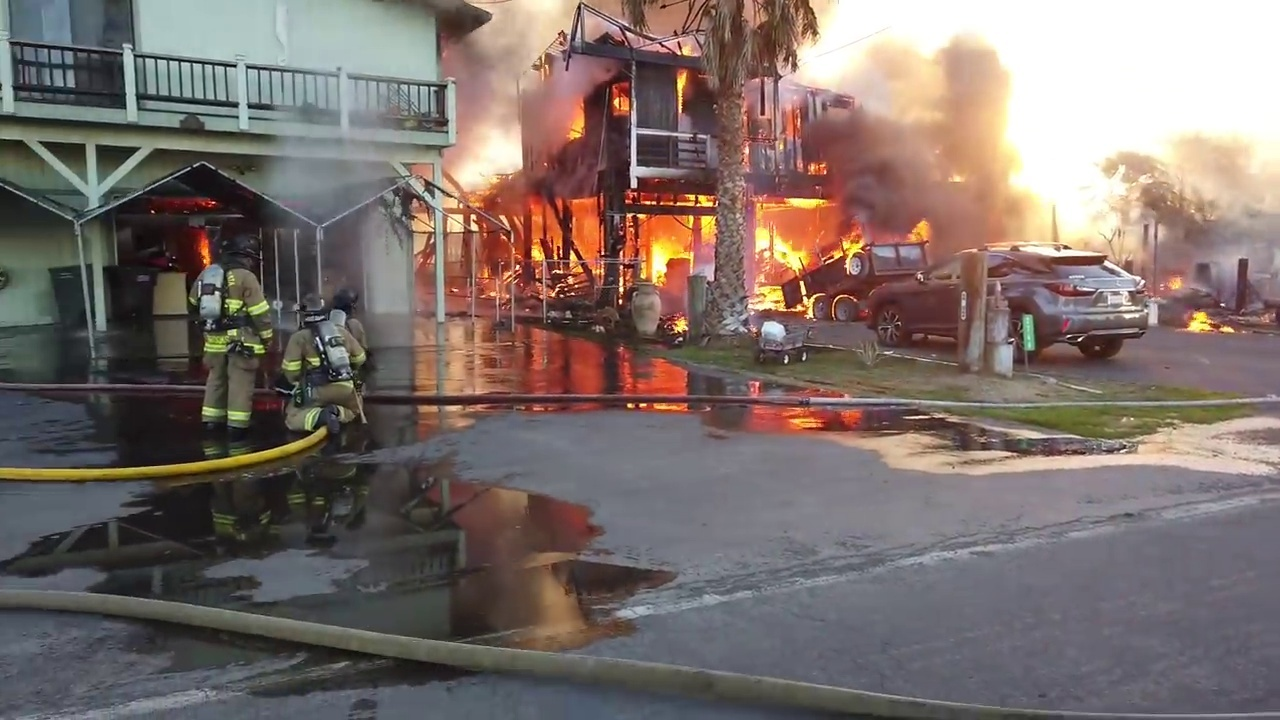fire: (454, 178, 603, 303), (754, 223, 820, 313), (618, 191, 673, 280), (671, 192, 719, 278), (828, 223, 872, 280), (673, 45, 696, 118), (1176, 309, 1239, 334), (150, 191, 218, 211), (563, 97, 587, 141), (606, 81, 633, 118), (193, 222, 214, 269), (829, 294, 857, 323), (659, 310, 689, 335), (781, 102, 800, 135), (907, 217, 931, 240), (801, 156, 829, 173), (1163, 271, 1185, 290), (946, 168, 968, 180)
smoke: (803, 1, 1037, 228), (1150, 40, 1280, 287), (438, 1, 578, 179), (1019, 155, 1130, 245)
